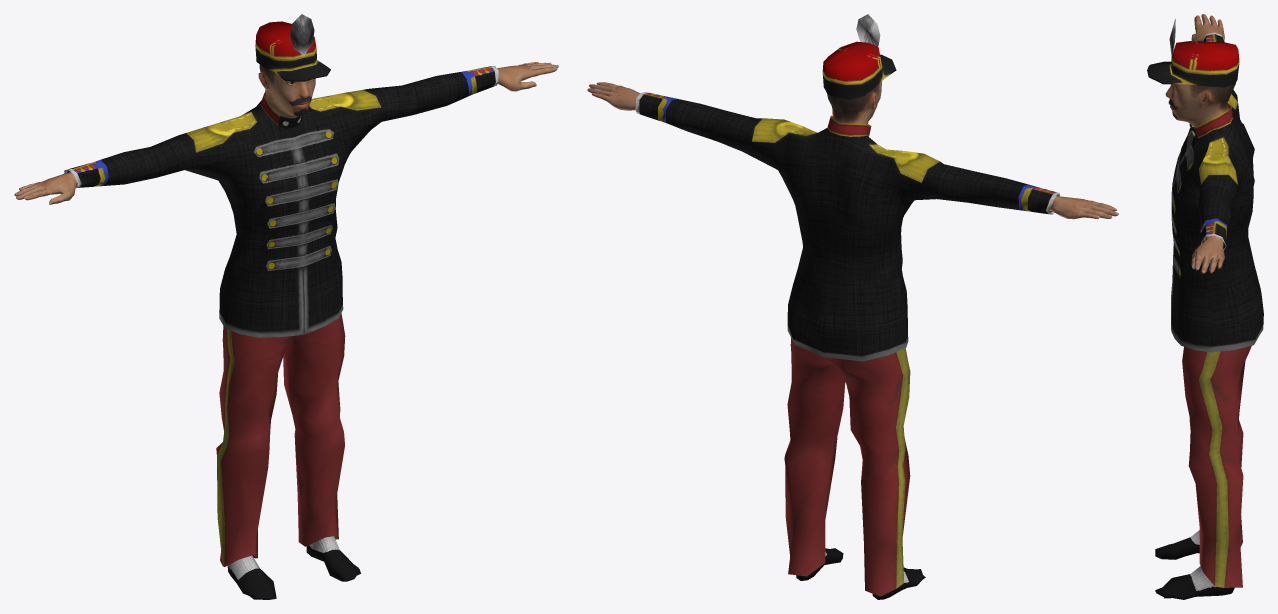
Rendered from Coronel_Mota.fbx.
3 views of the same model, side by side, from view 1: azimuth 30°, elevation 25°; view 2: azimuth 150°, elevation 25°; view 3: azimuth 270°, elevation 25° (orthographic). The views are drawn at different scales.
Visible parts, largest first — view 1: Roupa, Corpo; view 2: Roupa, Corpo; view 3: Roupa, Corpo.
Boxes of the visible parts, x1=… form: Roupa: x1=64, y1=14, x2=499, y2=566; Corpo: x1=14, y1=62, x2=558, y2=599; Roupa: x1=635, y1=14, x2=1060, y2=596; Corpo: x1=587, y1=81, x2=1118, y2=599; Roupa: x1=1147, y1=19, x2=1263, y2=587; Corpo: x1=1155, y1=14, x2=1235, y2=599.
Size of the model in its own units: 184 by 185 by 35.19.
Materials: 3 (3 with a texture image).
